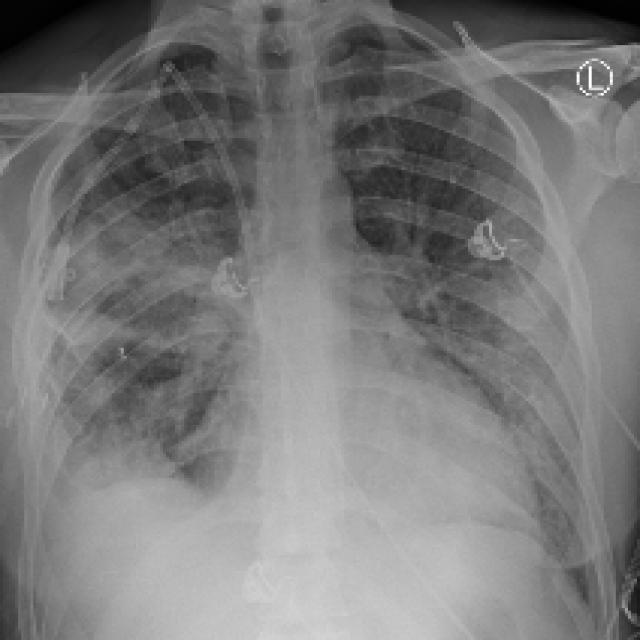coronavirus: (0, 0, 640, 640), (6, 0, 640, 637)
